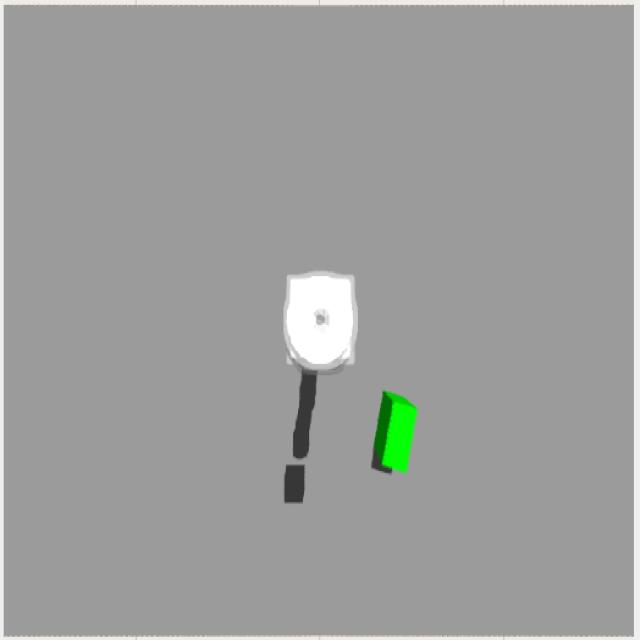box: (373, 391, 416, 471)
